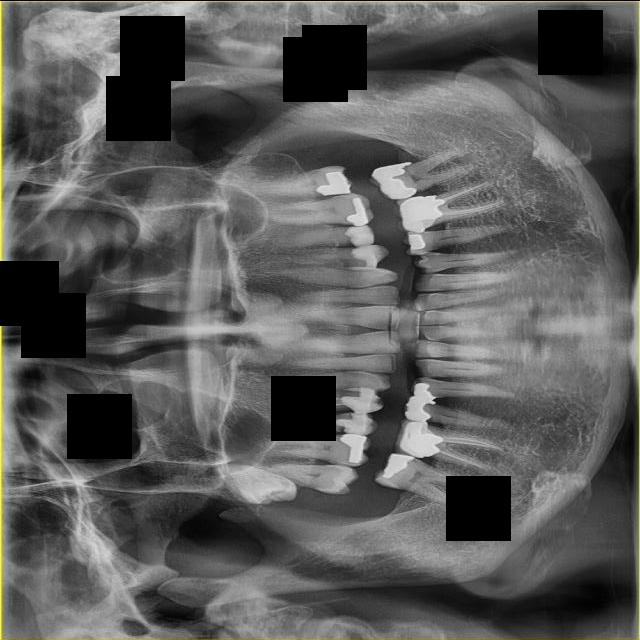74: (441, 199, 505, 217), (438, 448, 487, 469), (441, 434, 503, 449), (442, 182, 487, 202), (283, 418, 337, 426), (286, 402, 344, 407), (280, 396, 338, 399)
NucleOSS Implant: (371, 160, 419, 203), (381, 447, 415, 485), (401, 393, 436, 425), (409, 193, 447, 220), (337, 431, 368, 464), (315, 170, 351, 195), (341, 196, 369, 228), (413, 431, 444, 457), (412, 381, 438, 398), (408, 232, 425, 249)
Sterngold Implant: (335, 425, 349, 433), (339, 239, 354, 245), (426, 416, 434, 421), (411, 458, 420, 462)
Straumann Implant: (339, 381, 385, 419), (349, 231, 390, 273), (333, 410, 375, 437), (343, 222, 377, 247)
Zimmer Implant: (393, 417, 429, 458)
